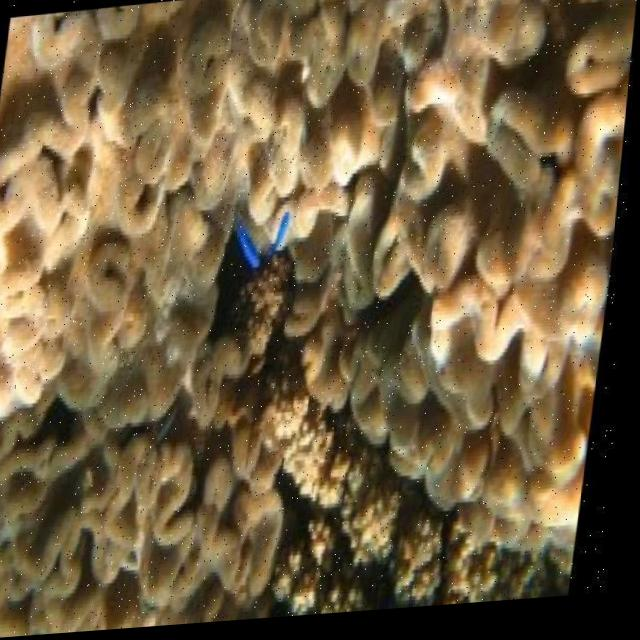Bleached Coral: (0, 22, 250, 476)
